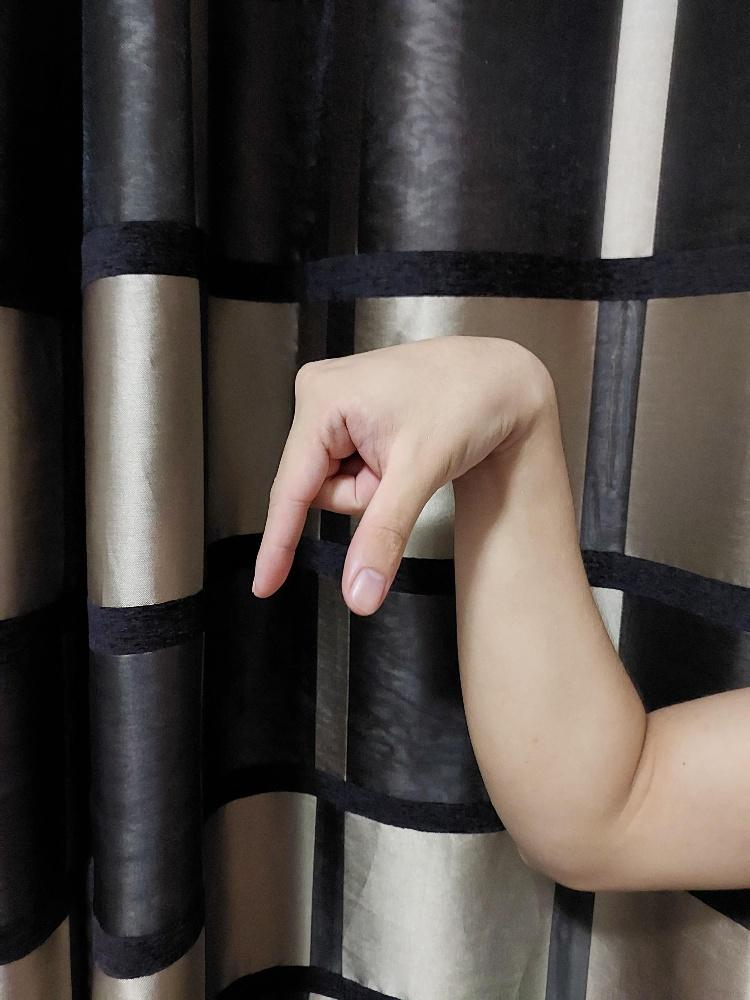q: (249, 331, 517, 616)
